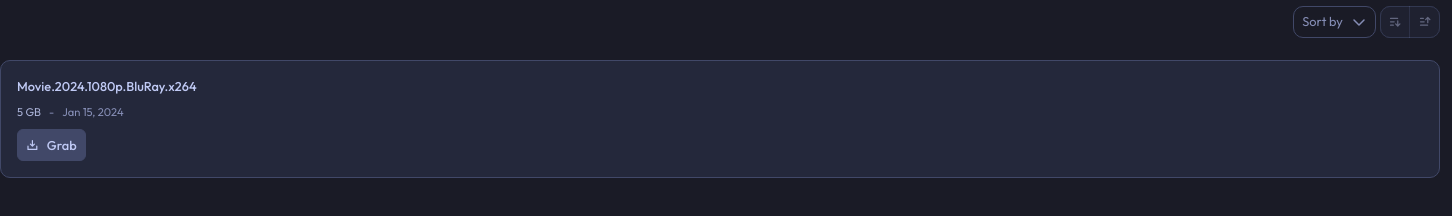
it: ReleasesTab › provides accessible compact sort controls with every release sort field
The width and height of the screenshot is (1452, 216).
Expected: the button named "Sort descending" is disabled, [1409,6,1440,38]
Click the dropdown named "Sort by field" at (1335, 22), box [1293,6,1376,38]
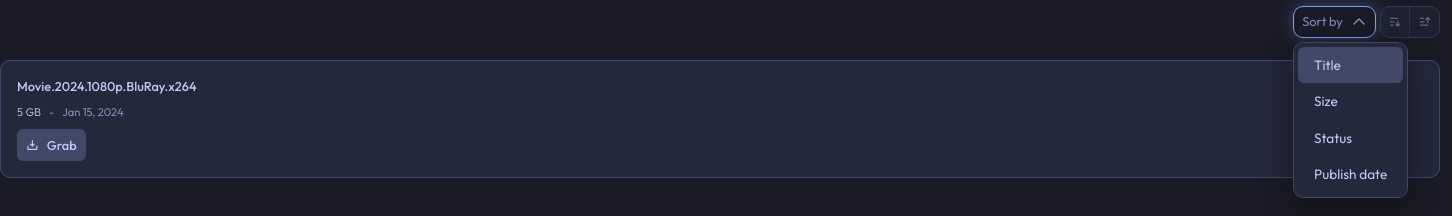
Expected: the options read "Title", "Size", "Status", "Publish date", in this order
Click the option "Title" at (1351, 65), box [1298,47,1403,83]
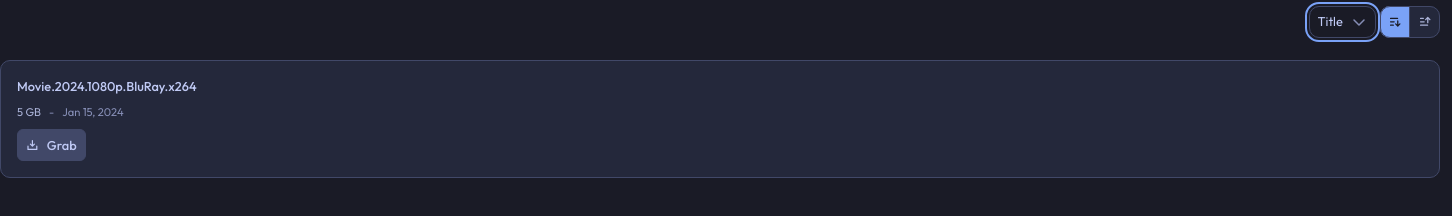
Expected: the button named "Sort descending" is enabled, [1409,6,1440,38]
